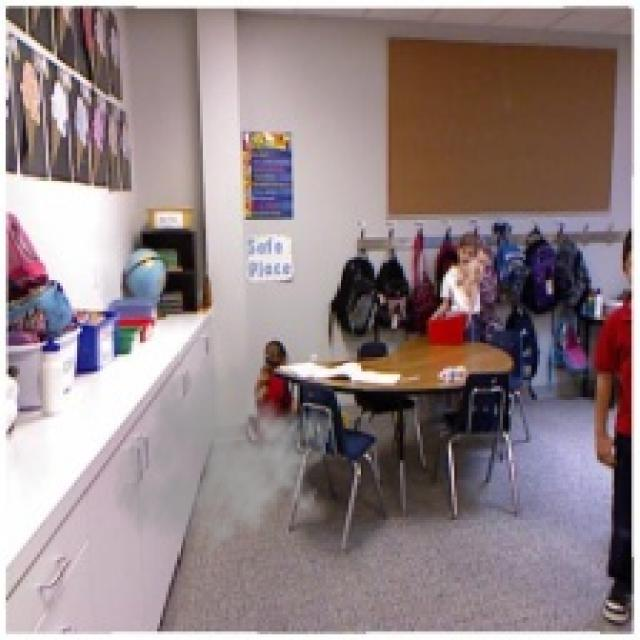smoke: (112, 354, 334, 569)
